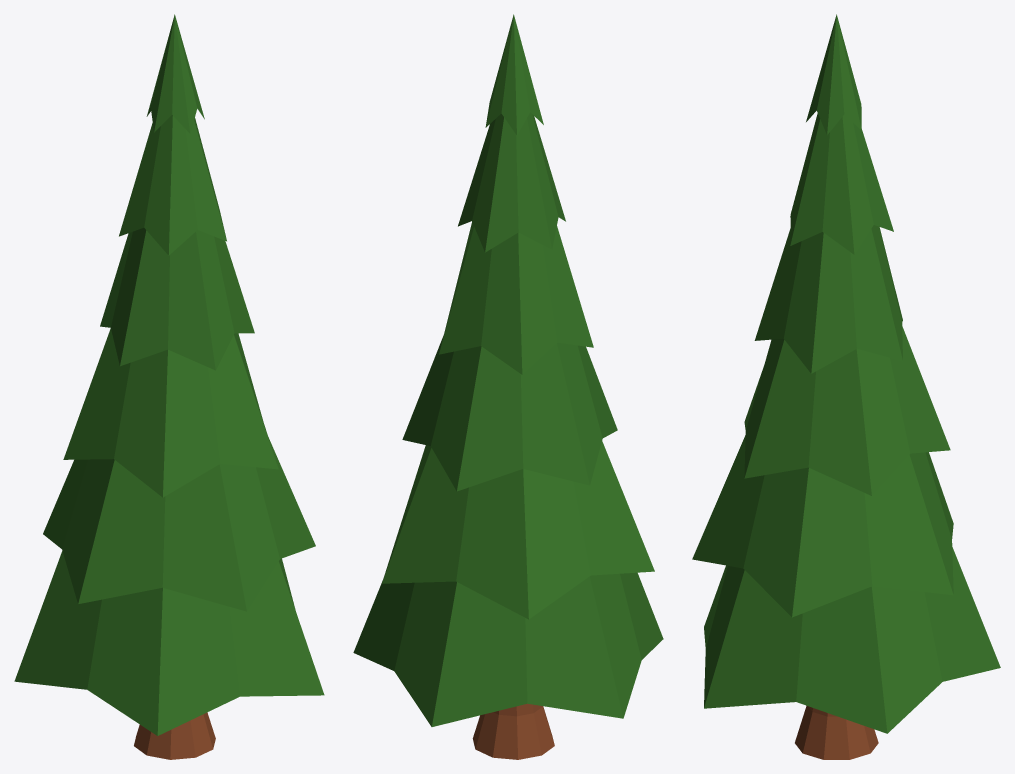
The model's file is GADE_Tree_Asset.fbx.
3 renders of one model, left to right at view 1: azimuth 30°, elevation 25°; view 2: azimuth 150°, elevation 25°; view 3: azimuth 270°, elevation 25°, orthographic.
Parts seen in each view (by area): view 1: Cylinder; view 2: Cylinder; view 3: Cylinder.
Part boxes in pixels (x1,y1,x2,y2): Cylinder: (14, 14, 324, 759); Cylinder: (353, 14, 663, 759); Cylinder: (692, 14, 1000, 759).
Size of the model in its own units: 392 by 1010 by 388.
